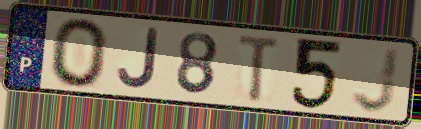5: (288, 36, 348, 113)
8: (175, 31, 221, 97)
J: (349, 45, 402, 115), (115, 26, 161, 92)
O: (49, 16, 111, 91)
T: (236, 32, 283, 104)
